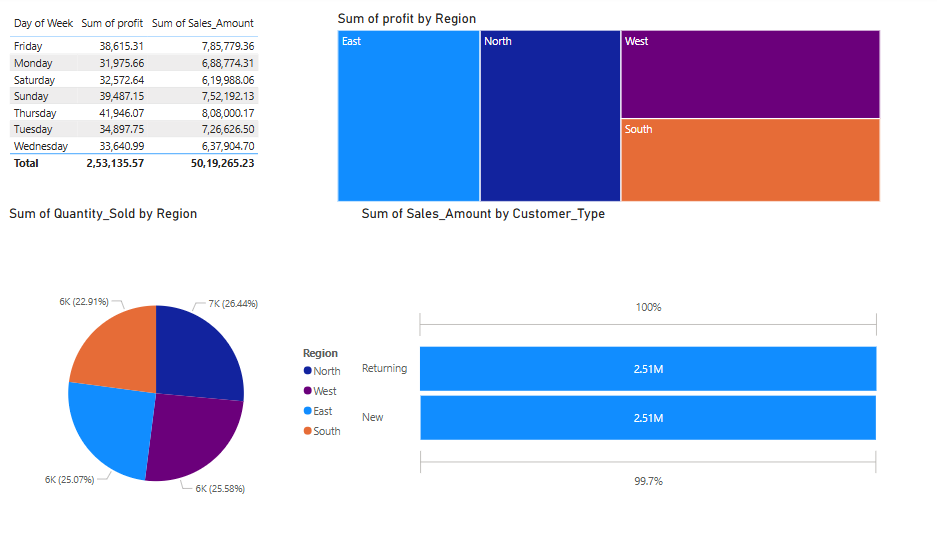

What the dashboard file says about the page in this screenshot:
{"tool":"powerbi","page":{"name":"Page 2","canvas":[1280,720],"ordinal":1},"visuals":[{"type":"tableEx","fields":{"Values":["sales_data.Day of Week","Sum(sales_data.profit)","Sum(sales_data.Sales_Amount)"]},"box":[49.1,20.8,359.1,211.7],"z":0},{"type":"actionButton","box":[0,0,100,40],"z":1},{"type":"pieChart","fields":{"Category":["sales_data.Region"],"Y":["Sum(sales_data.Quantity_Sold)"]},"box":[49.1,266.5,444.1,453.5],"z":2},{"type":"treemap","fields":{"Group":["sales_data.Region"],"Values":["Sum(sales_data.profit)"]},"box":[463,20.8,693.5,245.7],"z":3},{"type":"funnel","fields":{"Category":["sales_data.Customer_Type"],"Y":["Sum(sales_data.Sales_Amount)"]},"box":[493,267,664,453],"z":4}]}

Visuals, with their boxes in screenshot pixels (x1, y1, x2, y2), scaled from the page's 1280x720 canvas onto the 937x534 screenshot:
tableEx - sales_data.Day of Week x Sum(sales_data.profit): Rect(36, 15, 299, 172)
actionButton: Rect(0, 0, 73, 30)
pieChart - sales_data.Region x Sum(sales_data.Quantity_Sold): Rect(36, 198, 361, 533)
treemap - sales_data.Region x Sum(sales_data.profit): Rect(339, 15, 847, 198)
funnel - sales_data.Customer_Type x Sum(sales_data.Sales_Amount): Rect(361, 198, 847, 533)
